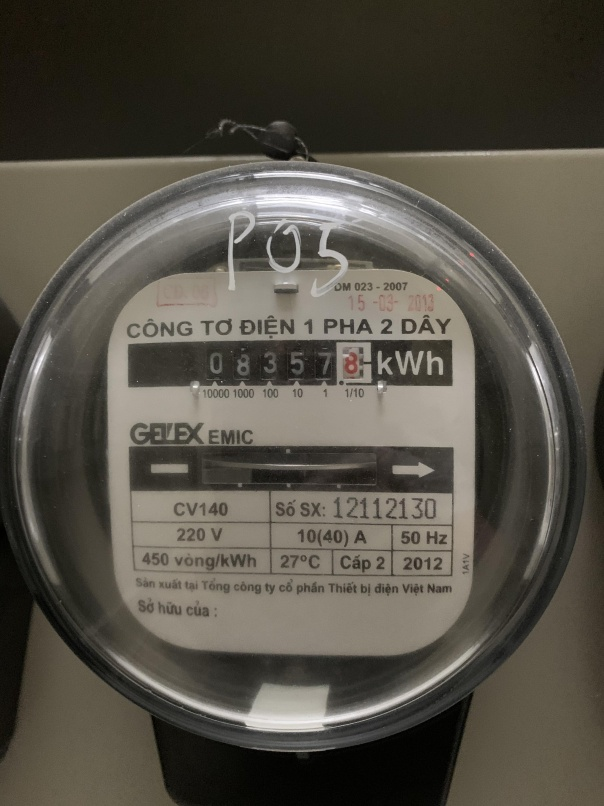counter: (124, 340, 454, 387)
electricity_meter: (1, 163, 587, 750)
